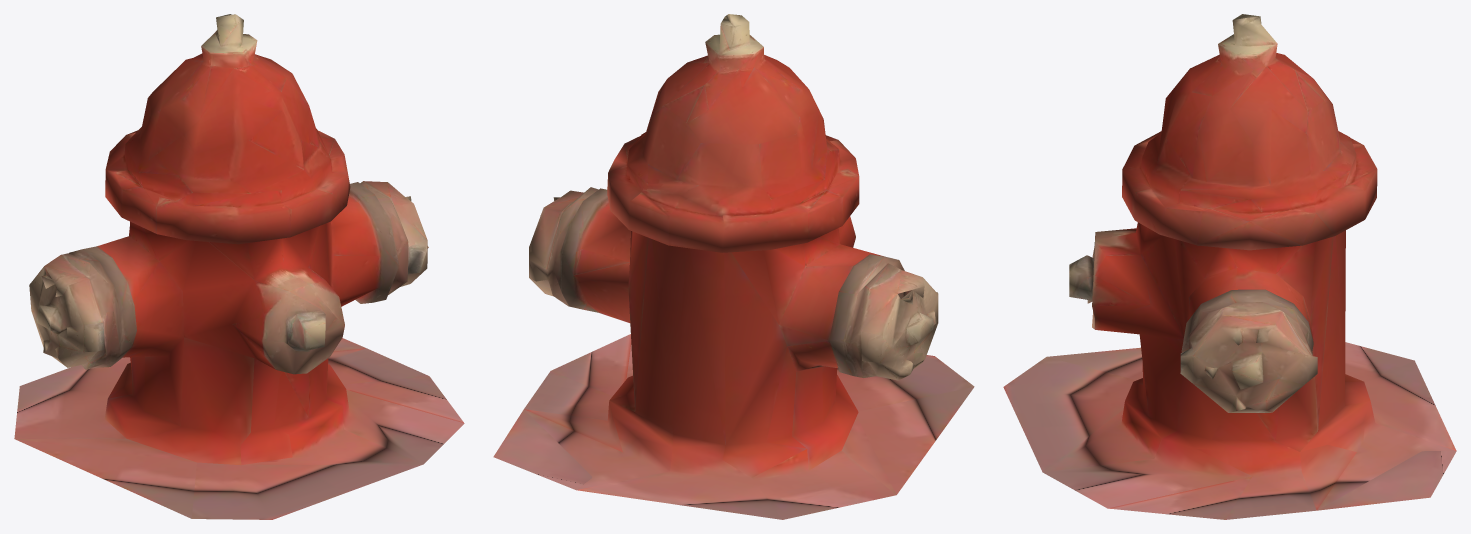
3 views of the same model, side by side, from view 1: azimuth 30°, elevation 25°; view 2: azimuth 150°, elevation 25°; view 3: azimuth 270°, elevation 25° (orthographic). The views are drawn at different scales.
Size of the model in its own units: 1.73 by 1.75 by 1.75.
Materials: 1 (1 with a texture image).
